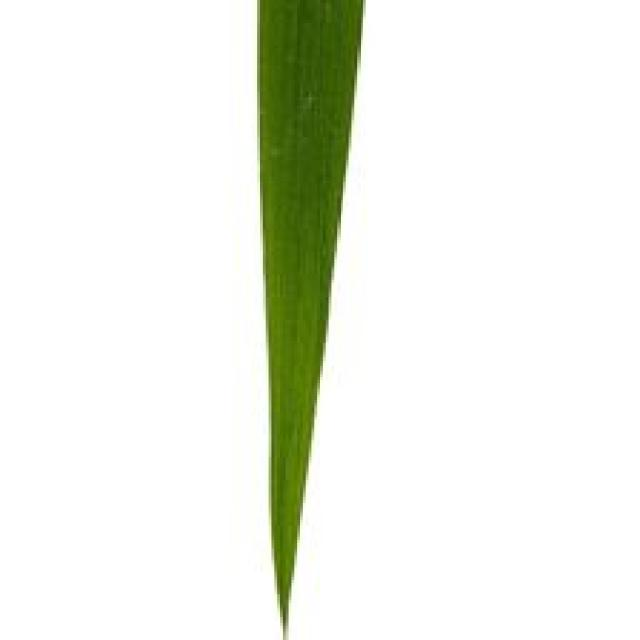Rice___Healthy_Rice_Plant: (257, 0, 365, 637)
